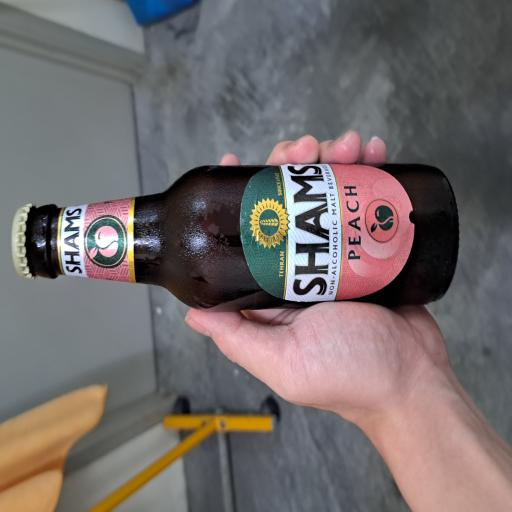glass bottle: (150, 15, 264, 512)
